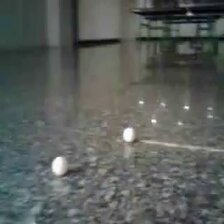w: (51, 156, 68, 175), (123, 127, 137, 142)
